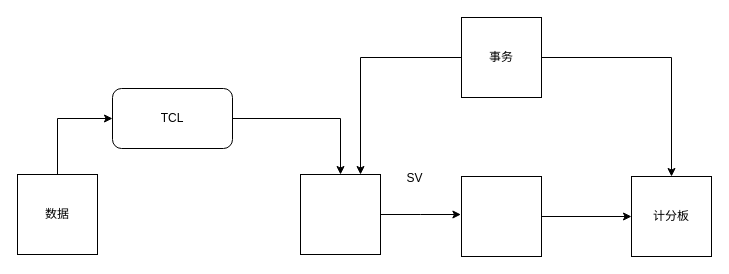
Image size: 729x274. Some labels were removed from this diagram. Here are the shapes that lost their labels. From the top down, the box of each, then its label:
(300, 174, 380, 254): 激励
(460, 176, 542, 256): 设计
